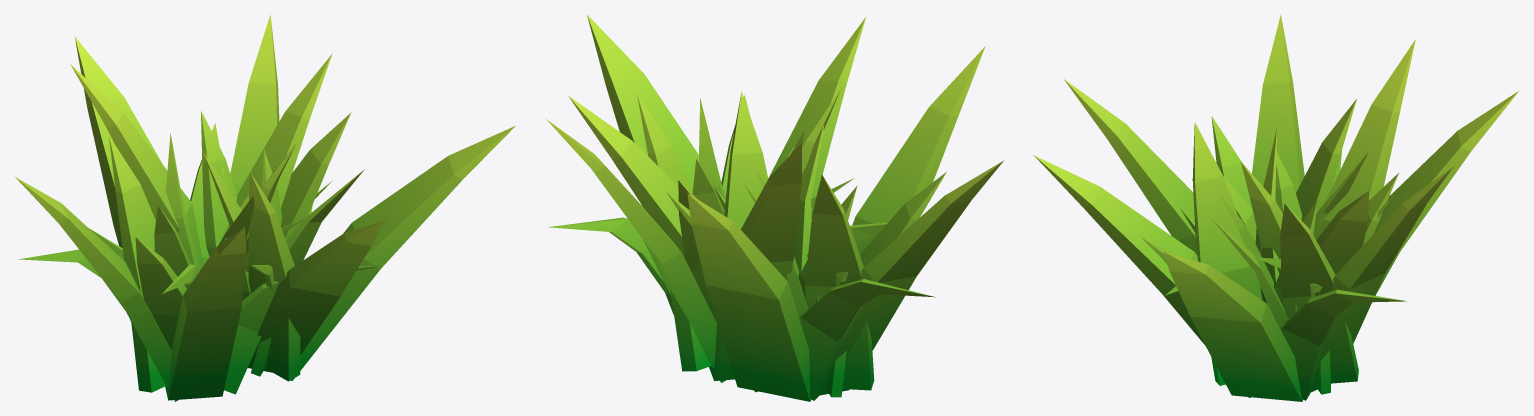
Rendered from Rumput 1aja.fbx.
3 views of the same model, side by side, from view 1: azimuth 30°, elevation 25°; view 2: azimuth 150°, elevation 25°; view 3: azimuth 270°, elevation 25° (orthographic). The views are drawn at different scales.
Visible parts, largest first — view 1: Cube.034; view 2: Cube.034; view 3: Cube.034.
Part boxes in pixels (x1,y1,x2,y2): Cube.034: [14, 14, 515, 401]; Cube.034: [546, 14, 1004, 401]; Cube.034: [1033, 14, 1518, 401].
Size of the model in its own units: 78.65 by 49.28 by 72.86.
